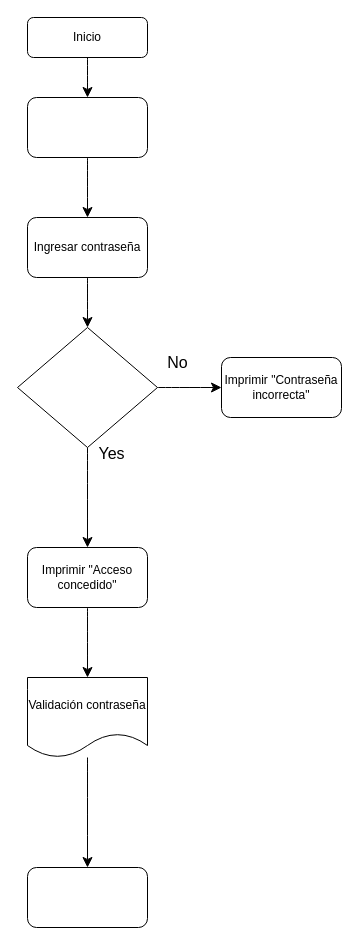
The diagram is 359 pixels wide and 945 high, and some of its shapes have lost their labels. The shapes that lost their labels are listed below. From the top down, each one's centre as x and y in pixels, then its label:
[87,127]: Determinar contraseña "python123"
[87,387]: Contraseña es correcta
[87,897]: Fin
